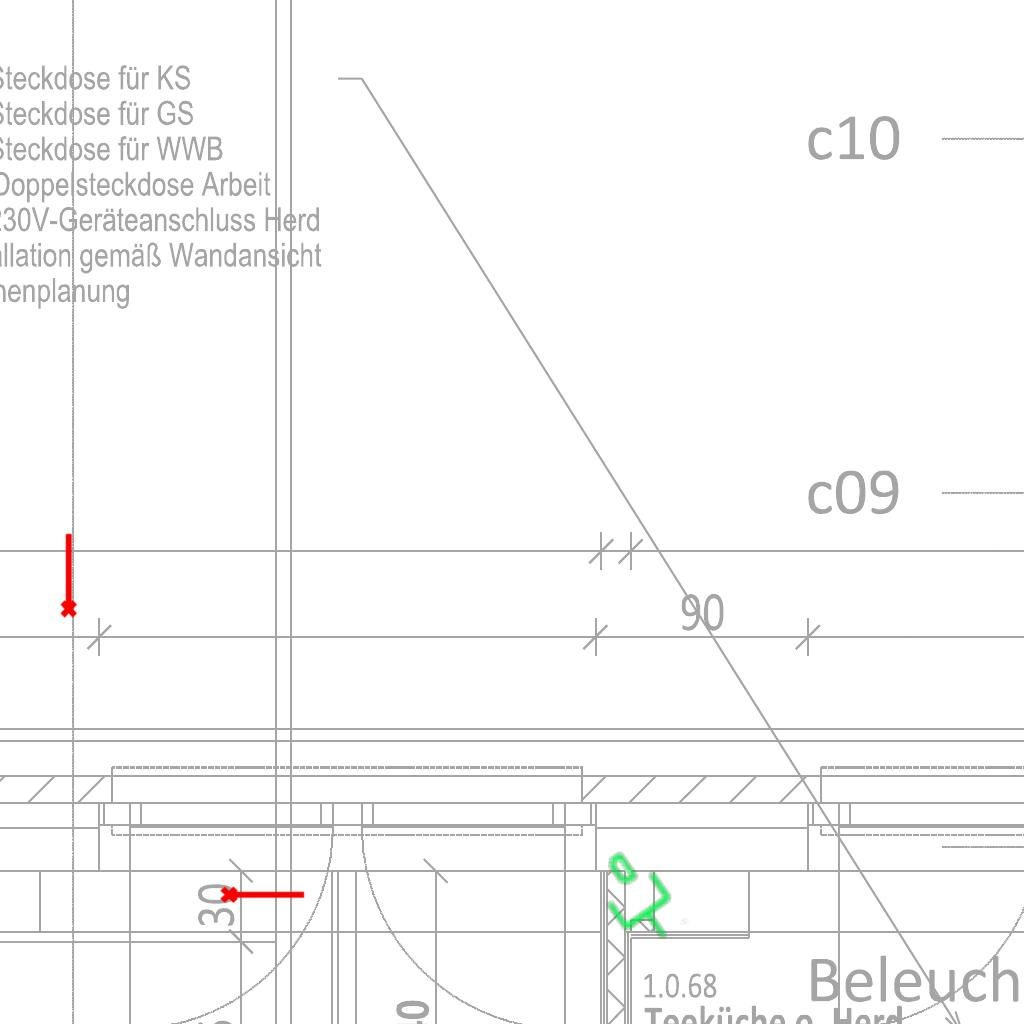ASR_Ansaugoeffnung: (56, 531, 79, 619), (219, 882, 307, 905)
Datenanschluss_einfach: (578, 838, 693, 960)
